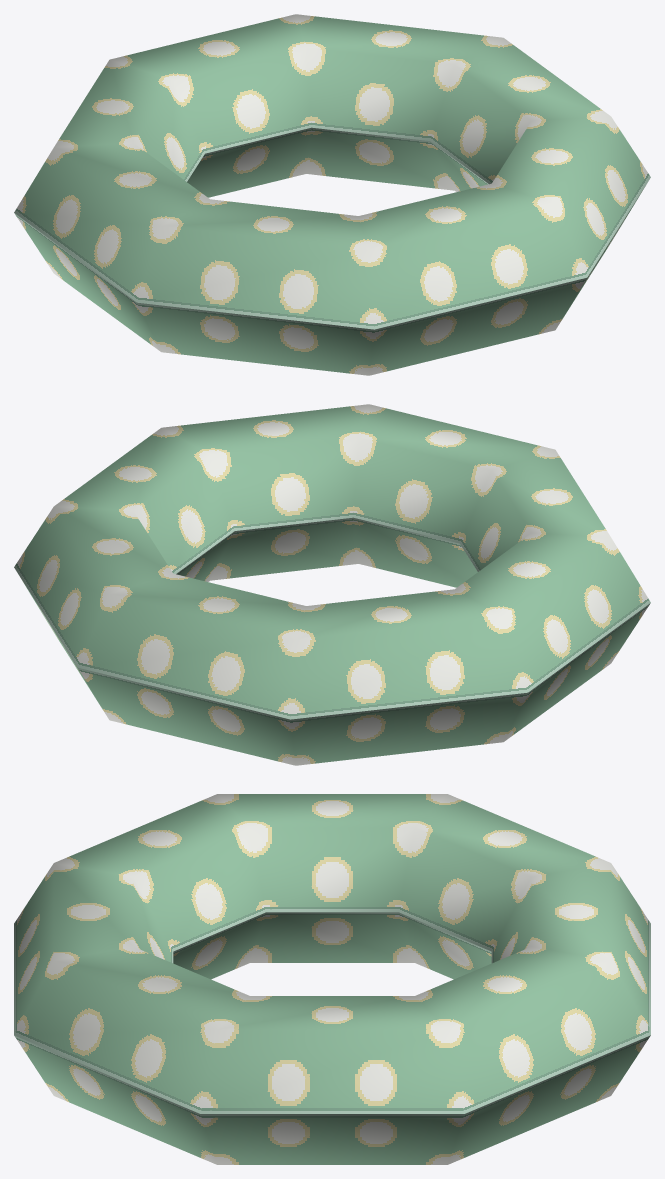
The model's file is 031a_Pool_Ring.glb.
3 views of the same model, one above another, from view 1: azimuth 30°, elevation 25°; view 2: azimuth 150°, elevation 25°; view 3: azimuth 270°, elevation 25° (orthographic). The views are drawn at different scales.
Visible parts, largest first — view 1: part_0; view 2: part_0; view 3: part_0.
Part boxes in pixels (x1,y1,x2,y2): part_0: (14,14,650,375); part_0: (14,404,650,765); part_0: (14,794,650,1164).
Bounding box in the file's own units: 0.6082 × 0.1425 × 0.6082.
1 material, 1 textured.
